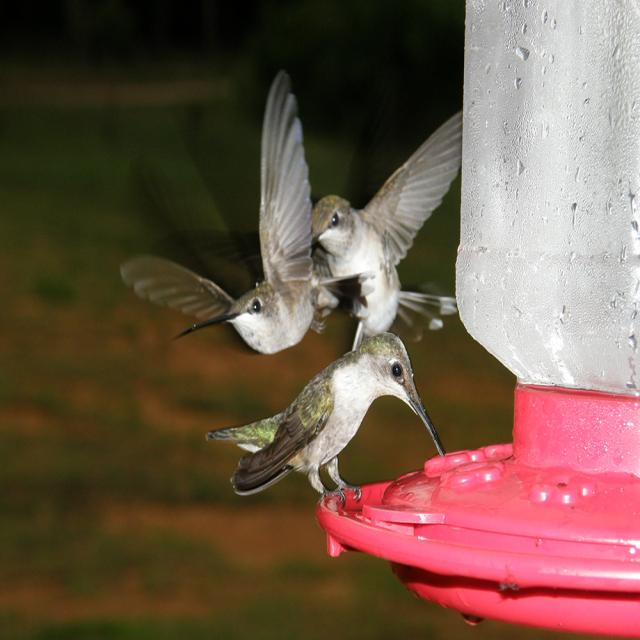bird: (101, 85, 342, 353), (201, 328, 432, 508), (315, 96, 461, 358)
